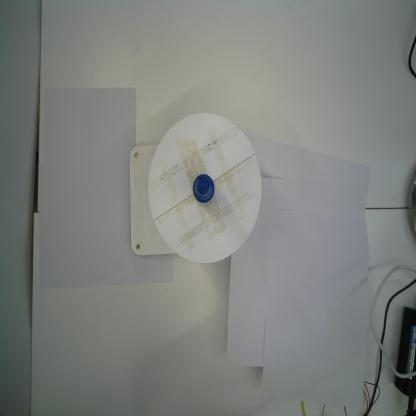Personal Hygiene: (192, 173, 216, 208)
